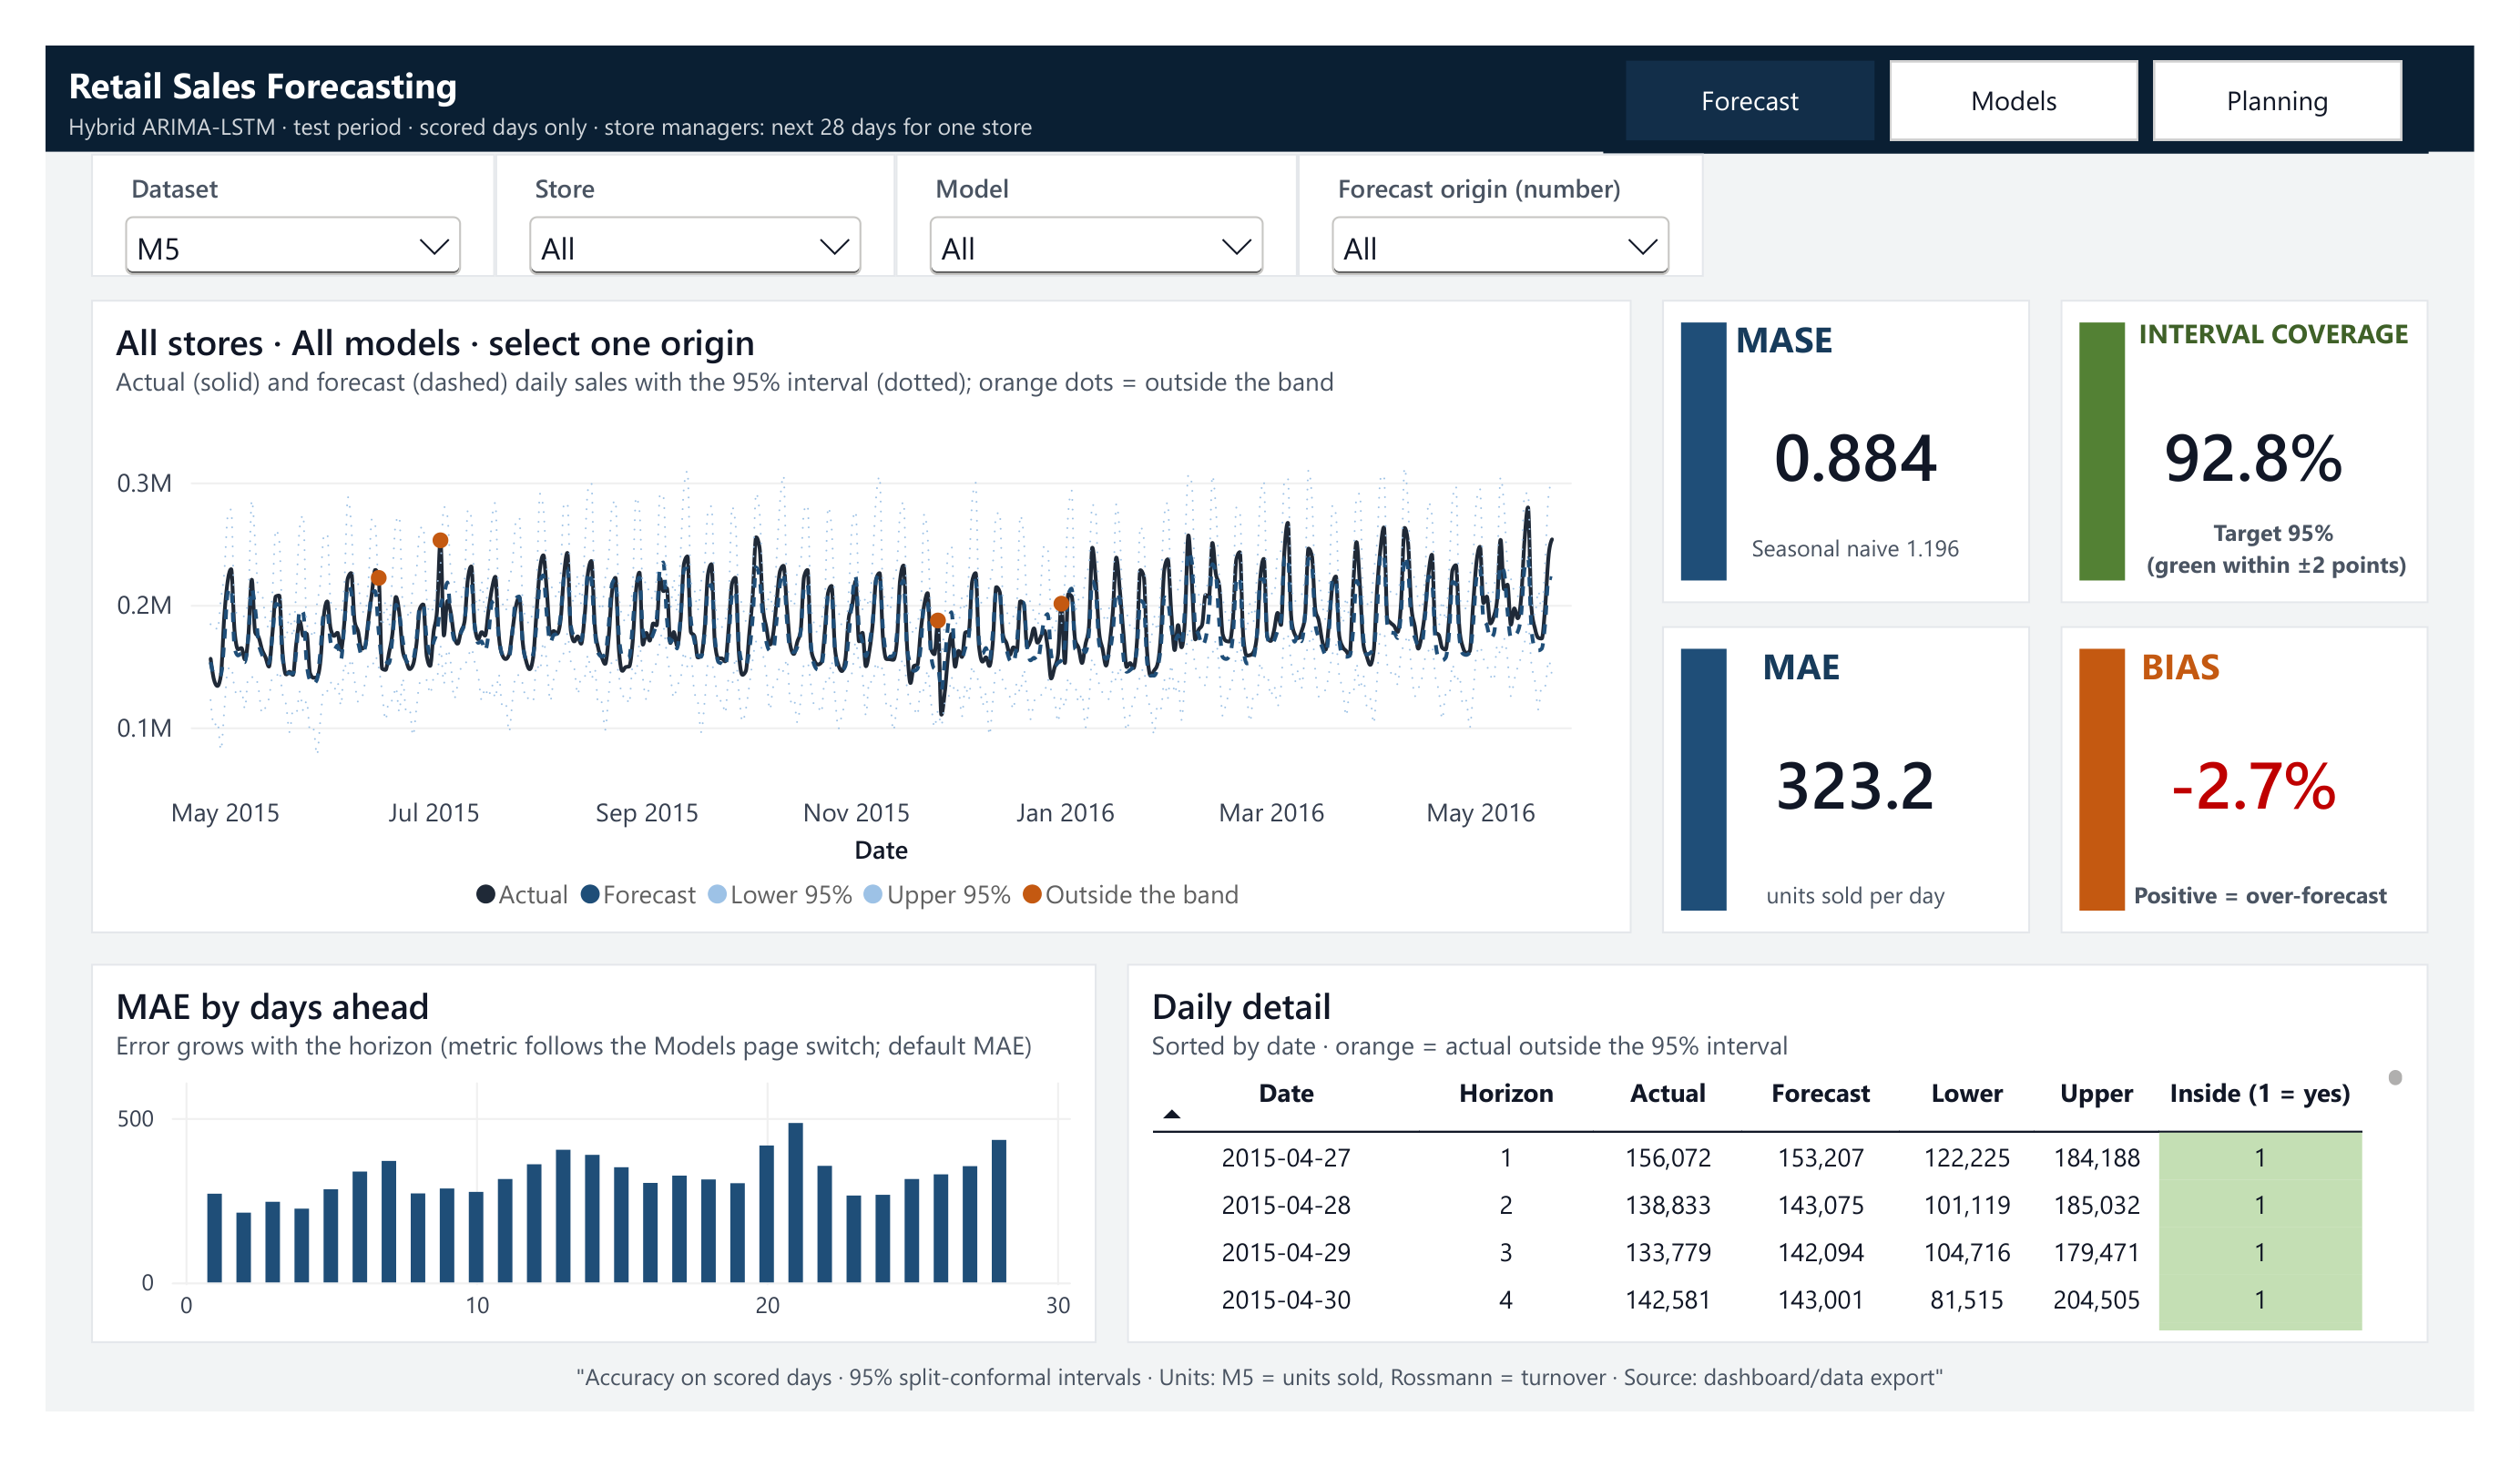

This screenshot's page, from the dashboard's own definition file:
{"tool":"powerbi","page":{"name":"Forecast","canvas":[1280,720],"ordinal":0},"visuals":[{"type":"textbox","box":[0,0,1280,56],"z":1000},{"type":"pageNavigator","box":[820.6,0,435.1,56.7],"z":2000},{"type":"slicer","fields":{"Values":["dim_series.dataset"]},"box":[24.1,56.7,212.6,65.2],"z":3000},{"type":"slicer","fields":{"Values":["dim_series.series_id"]},"box":[236.7,56.7,211.2,65.2],"z":4000},{"type":"slicer","fields":{"Values":["dim_model.model_short"]},"box":[447.9,56.7,212.6,65.2],"z":5000},{"type":"slicer","fields":{"Values":["fact_forecast.origin_number"]},"box":[660.5,56.7,214,65.2],"z":6000},{"type":"lineChart","fields":{"Category":["dim_date.date"],"Y":["_Measures.Actual Sales (scored)","_Measures.Forecast Sales (scored)","_Measures.Forecast Lower 95% (scored)","_Measures.Forecast Upper 95% (scored)","_Measures.Actual Outside Band"]},"box":[24,134,812,334],"z":7000},{"type":"textbox","box":[852,134,194,160],"z":8000},{"type":"textbox","box":[862,146,5,136],"z":9000},{"type":"textbox","box":[874,142,164,26],"z":10000},{"type":"card","fields":{"Values":["_Measures.MASE (store average) (display)"]},"box":[872,168,164,96],"z":11000},{"type":"card","fields":{"Values":["_Measures.Seasonal Naive Label"]},"box":[871.7,246.6,164.4,41.1],"z":12000},{"type":"textbox","box":[1062,134,194,160],"z":13000},{"type":"textbox","box":[1072,146,5,136],"z":14000},{"type":"textbox","box":[1084,142,164,26],"z":15000},{"type":"card","fields":{"Values":["_Measures.Interval Coverage % (display)"]},"box":[1082,168,164,96],"z":16000},{"type":"textbox","box":[1102.7,246.6,146,41.1],"z":17000},{"type":"textbox","box":[852,306,194,162],"z":18000},{"type":"textbox","box":[862,318,5,138],"z":19000},{"type":"textbox","box":[874,314,164,26],"z":20000},{"type":"card","fields":{"Values":["_Measures.MAE (display)"]},"box":[872,340,164,98],"z":21000},{"type":"card","fields":{"Values":["_Measures.MAE Subtitle"]},"box":[872,438,164,24],"z":22000},{"type":"textbox","box":[1062,306,194,162],"z":23000},{"type":"textbox","box":[1072,318,5,138],"z":24000},{"type":"textbox","box":[1084,314,164,26],"z":25000},{"type":"card","fields":{"Values":["_Measures.Bias % (display)"]},"box":[1082,340,164,98],"z":26000},{"type":"textbox","box":[1084,438,164,24],"z":27000},{"type":"clusteredColumnChart","fields":{"Category":["fact_forecast.horizon"],"Y":["_Measures.Selected Metric"]},"box":[24,484,530,200],"z":28000},{"type":"tableEx","title":"Daily detail","fields":{"Values":["dim_date.date","fact_forecast.horizon","_Measures.Actual Sales (scored)","_Measures.Forecast Sales (scored)","_Measures.Forecast Lower 95% (scored)","_Measures.Forecast Upper 95% (scored)","_Measures.Inside Interval"]},"box":[570,484,686,200],"z":29000},{"type":"textbox","box":[23.8,683.8,1232.5,33.8],"z":30000}]}

Visuals, with their boxes on the page's 1280x720 design canvas (x1, y1, x2, y2). These are canvas units, not pixel positions in the 2520x1457 screenshot, which may show the page scaled, cropped or inside an application window:
textbox: bbox=(0, 0, 1280, 56)
pageNavigator: bbox=(821, 0, 1256, 57)
slicer - dim_series.dataset: bbox=(24, 57, 237, 122)
slicer - dim_series.series_id: bbox=(237, 57, 448, 122)
slicer - dim_model.model_short: bbox=(448, 57, 660, 122)
slicer - fact_forecast.origin_number: bbox=(660, 57, 874, 122)
lineChart - dim_date.date x _Measures.Actual Sales (scored): bbox=(24, 134, 836, 468)
textbox: bbox=(852, 134, 1046, 294)
textbox: bbox=(862, 146, 867, 282)
textbox: bbox=(874, 142, 1038, 168)
card - _Measures.MASE (store average) (display): bbox=(872, 168, 1036, 264)
card - _Measures.Seasonal Naive Label: bbox=(872, 247, 1036, 288)
textbox: bbox=(1062, 134, 1256, 294)
textbox: bbox=(1072, 146, 1077, 282)
textbox: bbox=(1084, 142, 1248, 168)
card - _Measures.Interval Coverage % (display): bbox=(1082, 168, 1246, 264)
textbox: bbox=(1103, 247, 1249, 288)
textbox: bbox=(852, 306, 1046, 468)
textbox: bbox=(862, 318, 867, 456)
textbox: bbox=(874, 314, 1038, 340)
card - _Measures.MAE (display): bbox=(872, 340, 1036, 438)
card - _Measures.MAE Subtitle: bbox=(872, 438, 1036, 462)
textbox: bbox=(1062, 306, 1256, 468)
textbox: bbox=(1072, 318, 1077, 456)
textbox: bbox=(1084, 314, 1248, 340)
card - _Measures.Bias % (display): bbox=(1082, 340, 1246, 438)
textbox: bbox=(1084, 438, 1248, 462)
clusteredColumnChart - fact_forecast.horizon x _Measures.Selected Metric: bbox=(24, 484, 554, 684)
"Daily detail" tableEx: bbox=(570, 484, 1256, 684)
textbox: bbox=(24, 684, 1256, 718)
